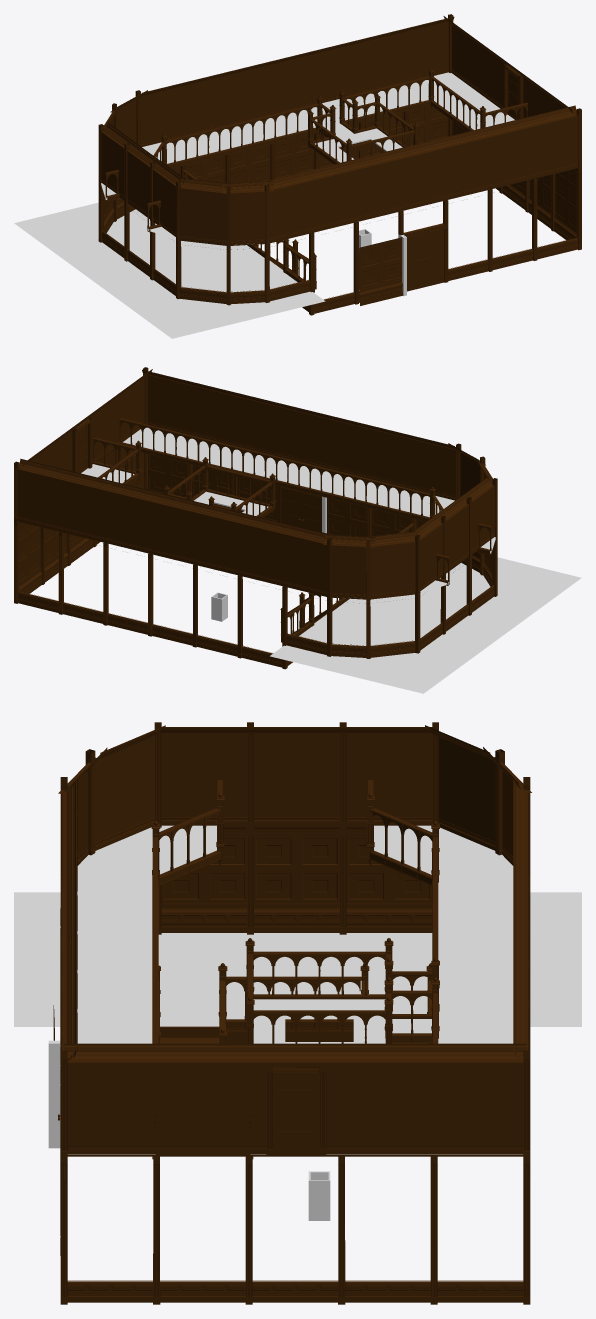
File: Enviroment.fbx
3 renders of one model, top to bottom at view 1: azimuth 30°, elevation 25°; view 2: azimuth 150°, elevation 25°; view 3: azimuth 270°, elevation 25°, orthographic. The views are drawn at different scales.
Parts seen in each view (by area): view 1: Plane009, Mat6_ParEst025, Mat6_ParEst003, Mat6_ParEst006, Mat6_ParEst005, Mat6_ParEst004, Mat6_ParEst002, Mat6_ParEst016, Mat6_ParEst018, Mat6_ParEst007, Mat6_ParEst014, Mat6_ParEst017 (+54 smaller); view 2: Plane009, Mat6_ParEst018, Mat6_ParEst015, Mat6_ParEst020, Mat6_ParEst016, Mat6_ParEst014, Mat6_ParEst017, Mat6_ParEst002, Mat6_ParEst005, Mat6_ParEst013, Mat6_ParEst004, Mat6_ParEst003 (+55 smaller); view 3: Plane009, Mat6_ParEst011, Mat6_ParEst009, Mat6_ParEst012, Mat6_ParEst008, Mat3_ParPeq004, Mat6_ParEst023, Mat6_ParEst022, Mat6_ParEst024, Mat6_ParEst025, Mat6_ParEst020, Mat3_ParPeq005 (+64 smaller).
Boxes of the visible parts, x1,y1,x2,y2 form: Plane009: (14,202,325,338); Mat6_ParEst025: (178,188,226,240); Mat6_ParEst003: (356,159,401,216); Mat6_ParEst006: (490,126,535,183); Mat6_ParEst005: (446,137,490,194); Mat6_ParEst004: (401,148,445,205); Mat6_ParEst002: (312,170,356,227); Mat6_ParEst016: (271,54,316,110); Mat6_ParEst018: (182,76,227,132); Mat6_ParEst007: (535,116,578,172); Mat6_ParEst014: (361,32,405,88); Mat6_ParEst017: (227,65,271,121); Plane009: (270,557,581,693); Mat6_ParEst018: (239,523,284,580); Mat6_ParEst015: (105,490,150,547); Mat6_ParEst020: (370,542,415,593); Mat6_ParEst016: (150,501,194,558); Mat6_ParEst014: (61,480,105,537); Mat6_ParEst017: (195,512,239,569); Mat6_ParEst002: (369,429,414,485); Mat6_ParEst005: (235,396,280,452); Mat6_ParEst013: (17,469,60,526); Mat6_ParEst004: (280,407,324,463); Mat6_ParEst003: (325,418,369,474); Plane009: (14,892,581,1026); Mat6_ParEst011: (341,1062,434,1146); Mat6_ParEst009: (156,1062,249,1146); Mat6_ParEst012: (434,1062,523,1146); Mat6_ParEst008: (67,1062,156,1146); Mat3_ParPeq004: (254,827,339,911); Mat6_ParEst023: (254,735,339,816); Mat6_ParEst022: (346,735,432,816); Mat6_ParEst024: (161,735,246,816); Mat6_ParEst025: (95,736,154,842); Mat6_ParEst020: (439,737,495,841); Mat3_ParPeq005: (161,827,246,911).
Size of the model in its own units: 1897 by 700 by 1228.
